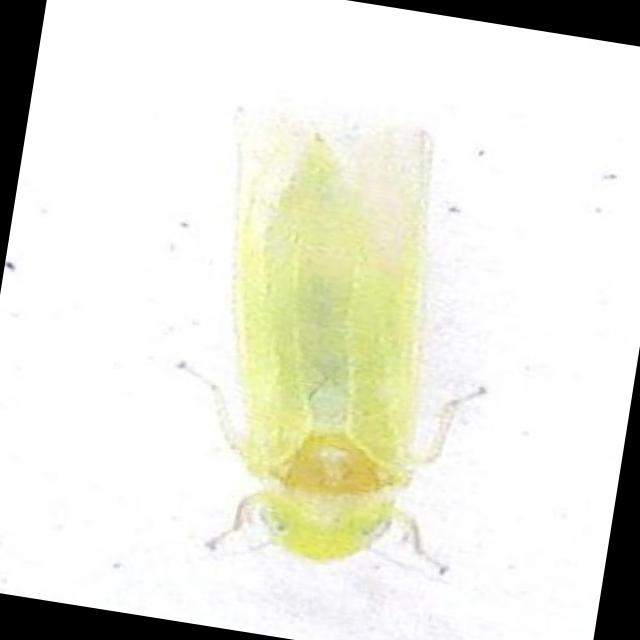green-leafhopper: (148, 110, 524, 586)
